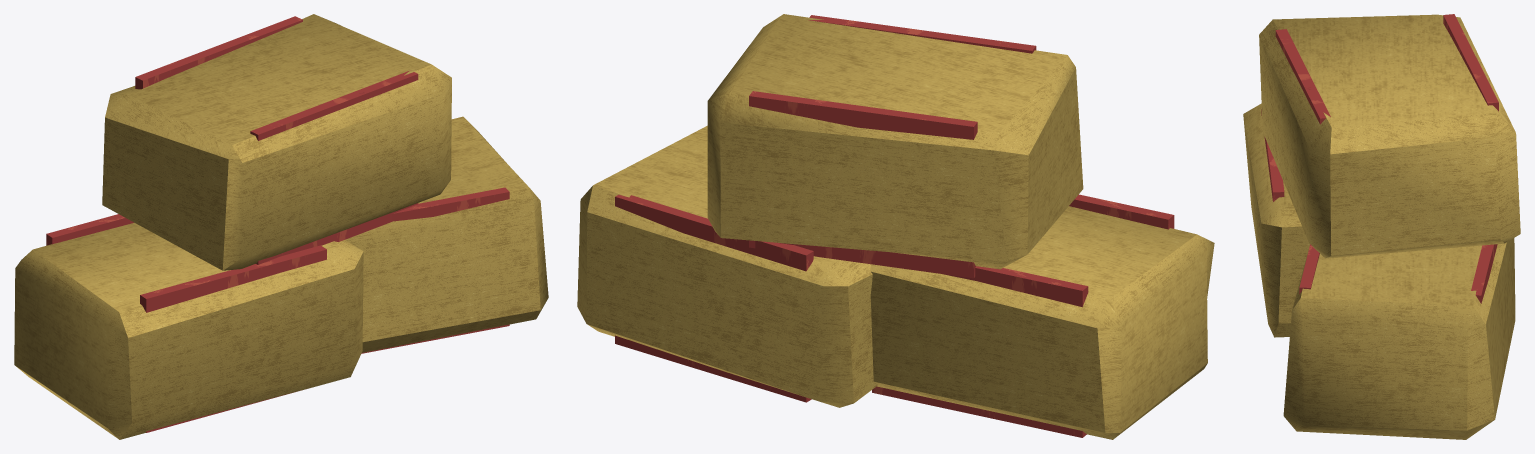
Rendered from hay_bale.glb.
3 views of the same model, side by side, from view 1: azimuth 30°, elevation 25°; view 2: azimuth 150°, elevation 25°; view 3: azimuth 270°, elevation 25° (orthographic). The views are drawn at different scales.
Visible parts, largest first — view 1: Hay; view 2: Hay; view 3: Hay.
Part boxes in pixels (<box>): Hay: <box>14,14,548,439</box>; Hay: <box>577,14,1214,439</box>; Hay: <box>1243,14,1520,439</box>.
Size of the model in its own units: 1.94 by 1.02 by 0.9712.
Materials: 2 (2 with a texture image).
